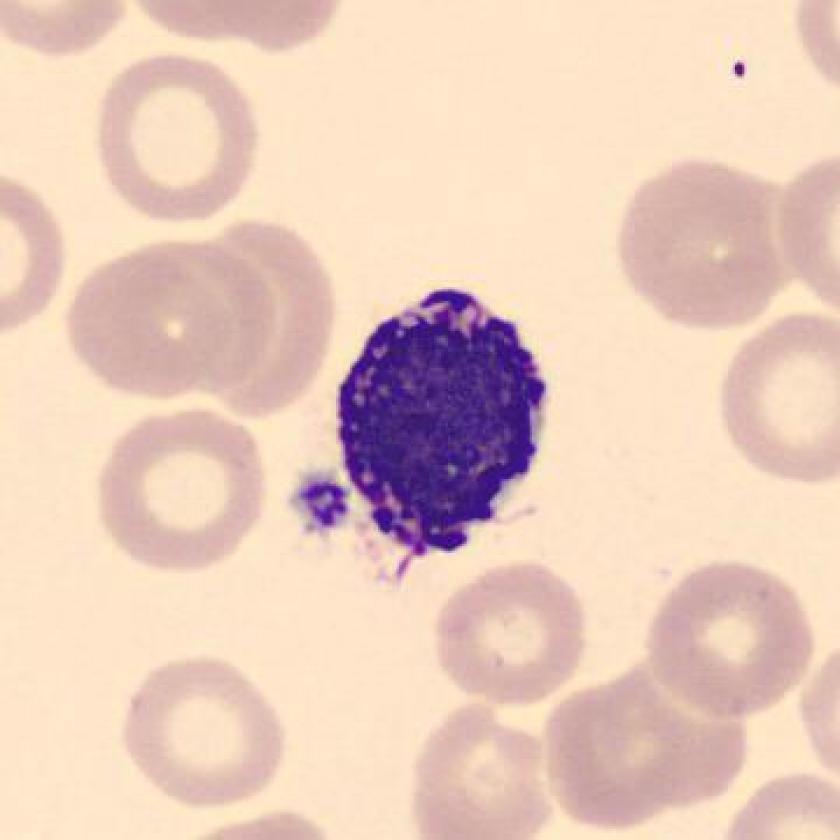basophil: (318, 265, 561, 561)
